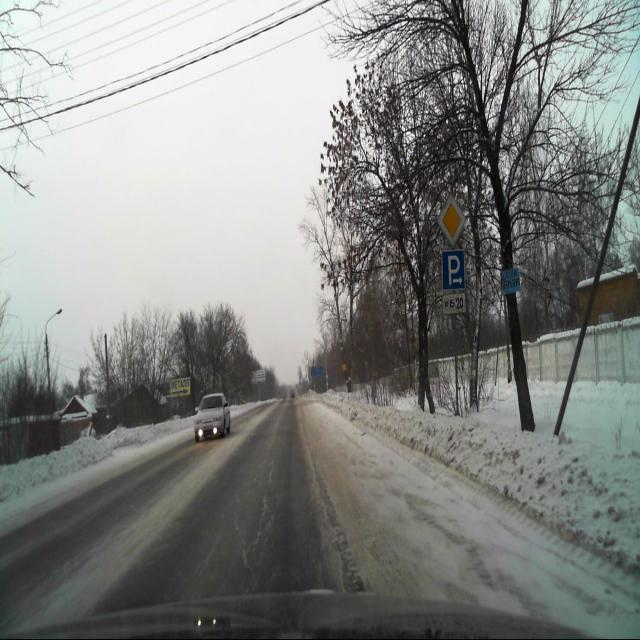object: (452, 318, 460, 417)
road sign: (440, 196, 466, 244), (441, 249, 465, 291), (443, 294, 466, 314)
